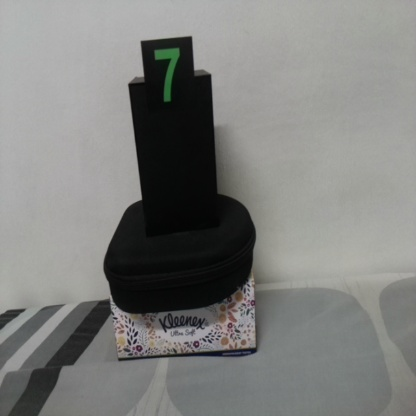id_7: (142, 40, 194, 121)
